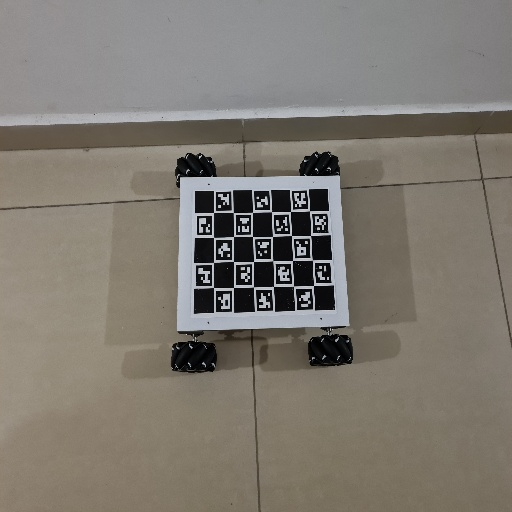Omniwheel: (171, 152, 354, 375)
